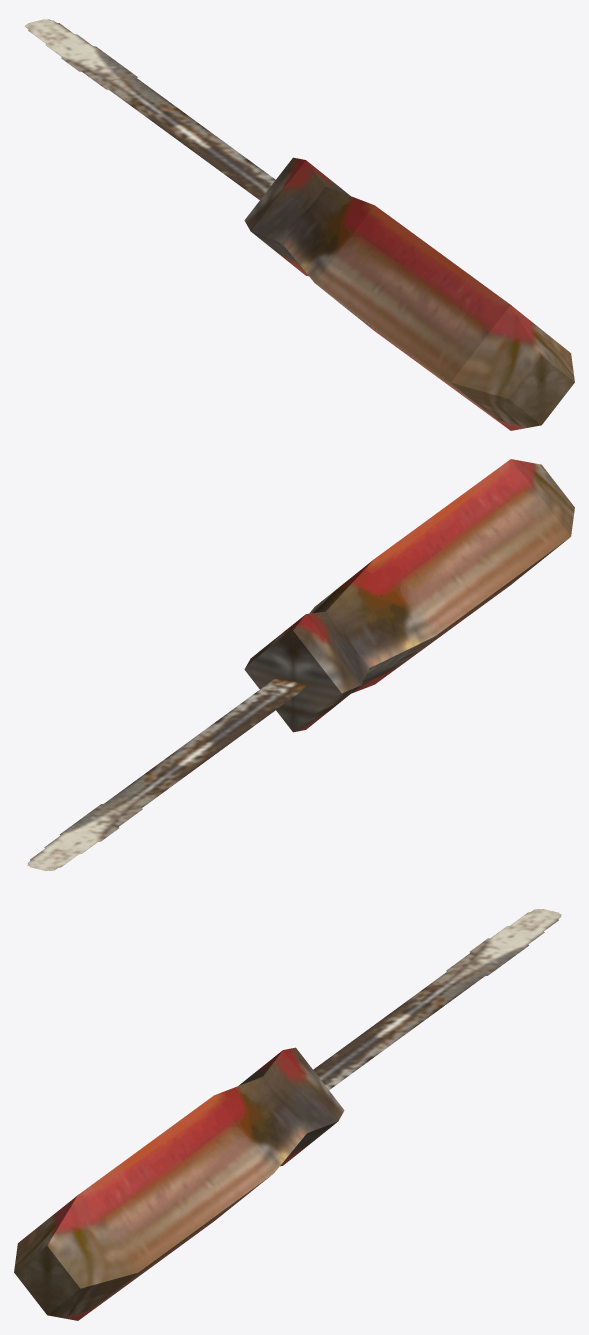
Rendered from screwdriver.fbx.
3 views of the same model, one above another, from view 1: azimuth 30°, elevation 25°; view 2: azimuth 150°, elevation 25°; view 3: azimuth 330°, elevation 25° (orthographic).
Parts seen in each view (by area): view 1: Screwdriver; view 2: Screwdriver; view 3: Screwdriver.
Part boxes in pixels (x1,y1,x2,y2): Screwdriver: (25, 19, 574, 430); Screwdriver: (27, 459, 574, 870); Screwdriver: (14, 909, 561, 1320).
Bounding box in the file's own units: 3.08 × 3.08 × 22.48.
Materials: 1 (1 with a texture image).
